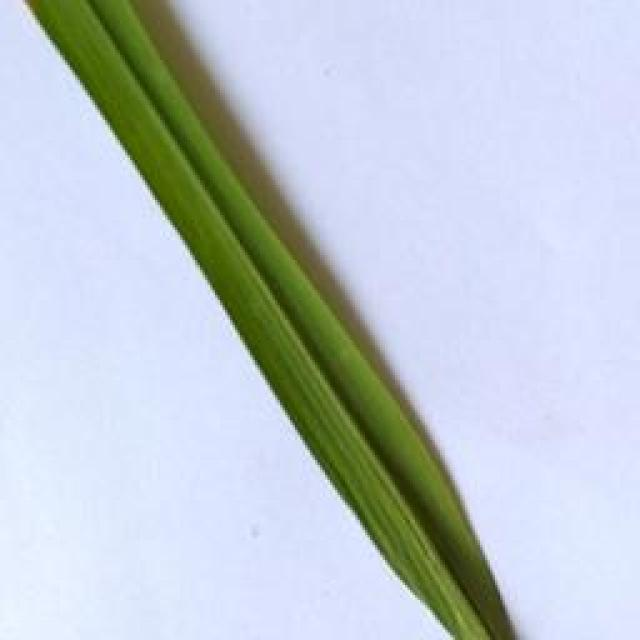Healthy-Plant: (28, 0, 502, 640)
